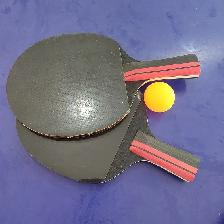YellowBall: (143, 81, 174, 112)
